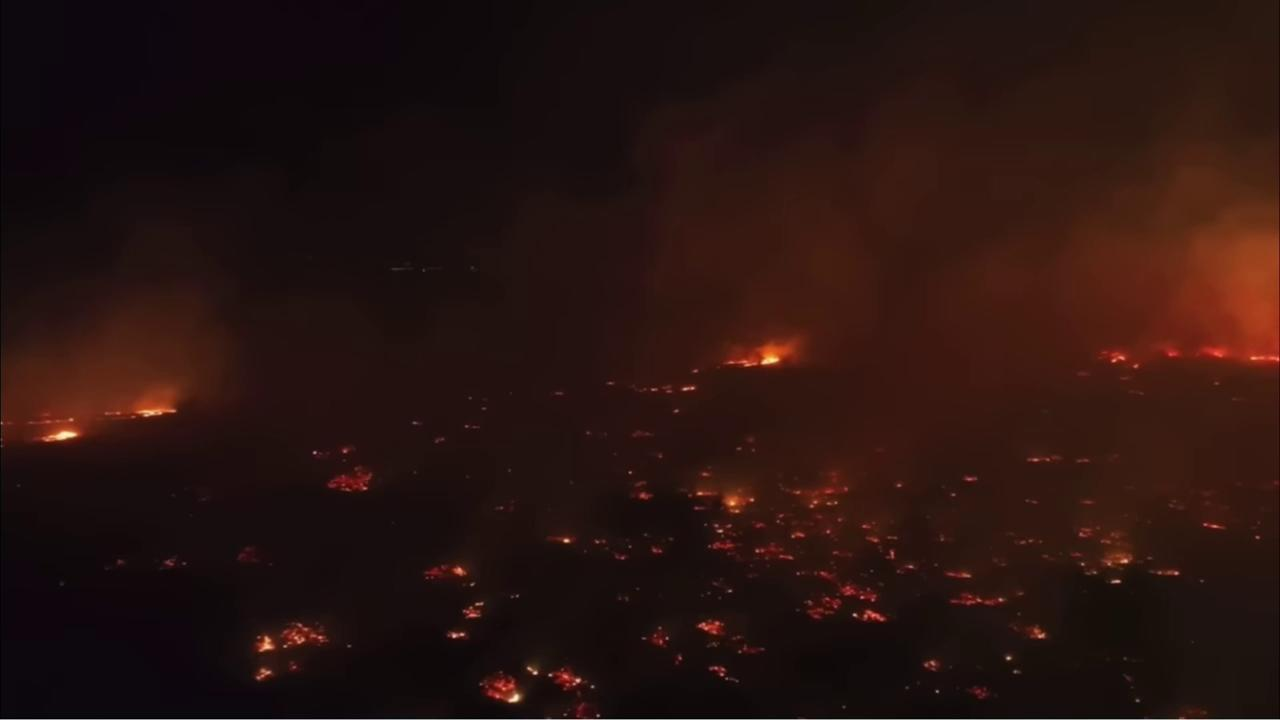fire: (772, 470, 853, 510), (795, 567, 881, 603), (278, 617, 332, 653), (688, 488, 755, 516), (1099, 527, 1140, 570), (700, 521, 743, 560), (324, 465, 378, 495), (476, 668, 521, 703), (546, 658, 587, 693), (722, 349, 786, 369), (798, 595, 844, 622), (946, 591, 1011, 609), (420, 561, 473, 581), (752, 541, 797, 563), (248, 629, 277, 659), (637, 624, 672, 648), (693, 616, 730, 638), (132, 405, 179, 421), (627, 478, 656, 503), (848, 608, 889, 625), (1092, 345, 1126, 365), (963, 681, 996, 701), (34, 429, 80, 443), (457, 599, 489, 619), (232, 543, 261, 565), (27, 413, 77, 425), (570, 701, 605, 718), (156, 554, 189, 570), (250, 663, 276, 683), (735, 642, 769, 657), (1195, 343, 1226, 359), (1022, 625, 1050, 642), (1145, 566, 1184, 578), (543, 531, 575, 545), (940, 569, 976, 581), (918, 657, 942, 674), (442, 628, 472, 641), (287, 659, 308, 676), (1076, 524, 1098, 540), (1248, 352, 1280, 363), (1159, 346, 1184, 360), (706, 664, 727, 680), (1027, 455, 1064, 464), (1198, 520, 1225, 532), (790, 529, 809, 544), (527, 664, 542, 679), (750, 519, 768, 531), (661, 382, 676, 395), (1105, 578, 1124, 588), (679, 383, 698, 393), (648, 544, 665, 555), (671, 654, 685, 667), (962, 473, 980, 483), (866, 536, 883, 546), (888, 549, 899, 563), (338, 445, 355, 454), (103, 409, 123, 416), (613, 552, 627, 562), (633, 384, 648, 393), (1068, 551, 1086, 558), (672, 408, 683, 416), (691, 367, 701, 374), (651, 387, 659, 393), (1133, 363, 1139, 370)
smoke: (0, 0, 1280, 663)
